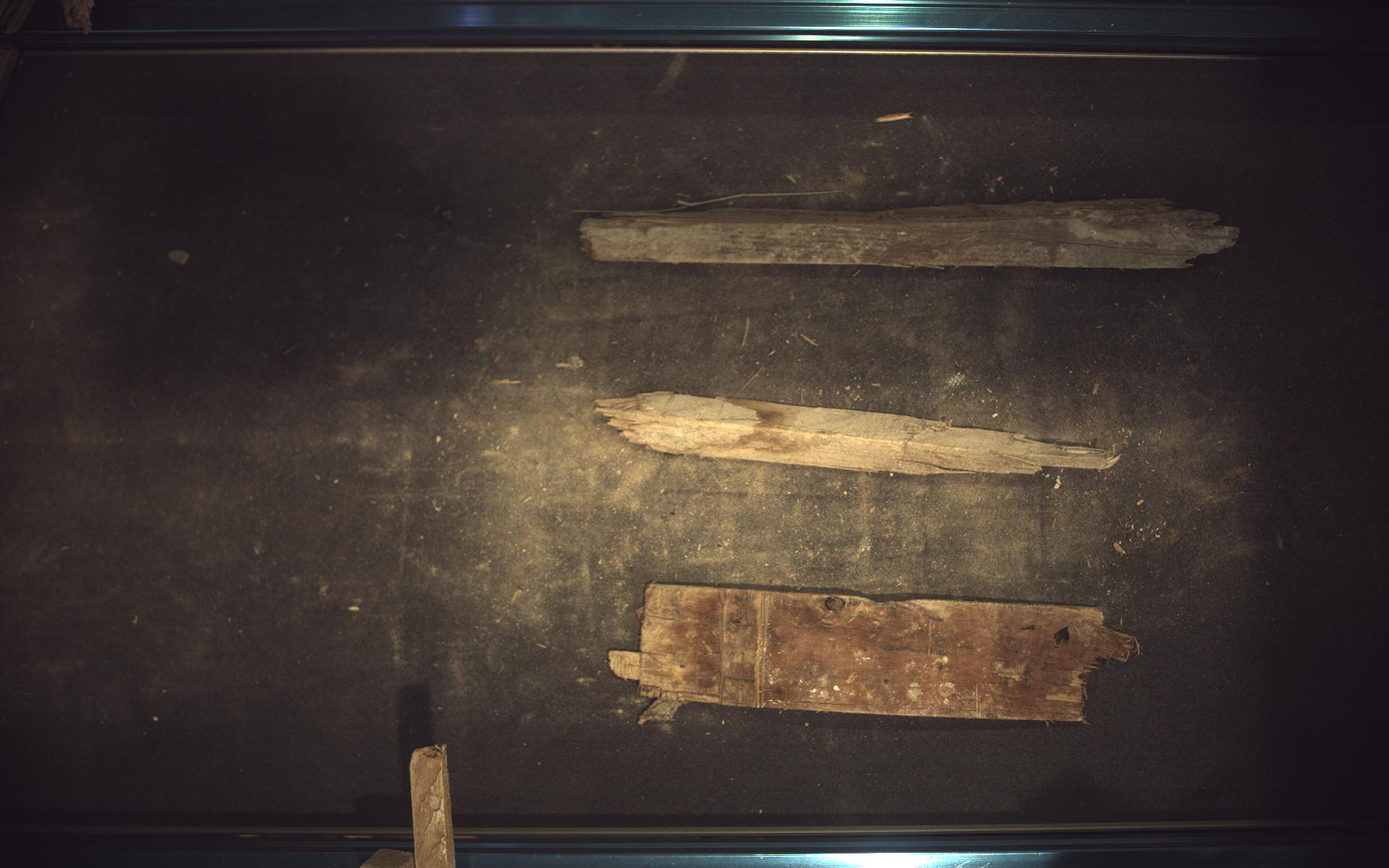wood: (610, 584, 1141, 725), (581, 199, 1241, 268), (596, 391, 1121, 475), (361, 746, 456, 868)
